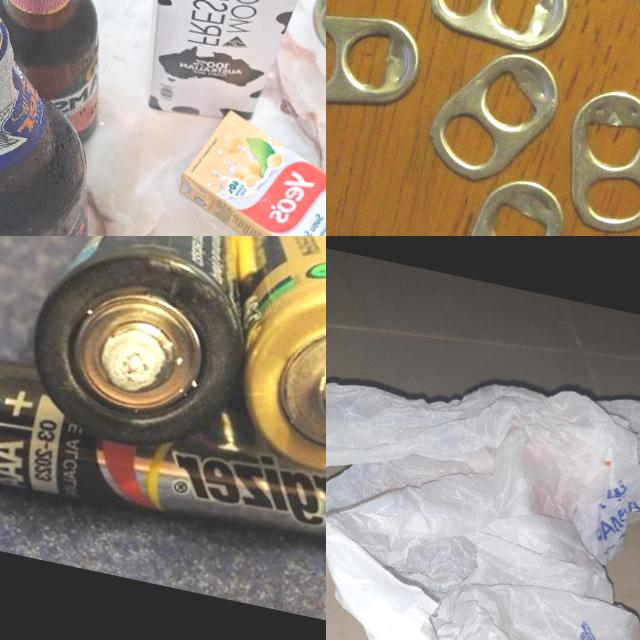aba de lata: (419, 38, 568, 198), (550, 81, 640, 236), (326, 0, 430, 122), (417, 0, 578, 61), (445, 169, 576, 236)
bateria: (0, 329, 326, 591), (13, 236, 280, 466), (186, 236, 326, 493)
caixinha: (116, 0, 326, 134), (160, 104, 326, 236)
garrafa de vidro: (0, 1, 129, 236), (0, 0, 142, 145)
sacola plástica: (326, 325, 640, 640)
